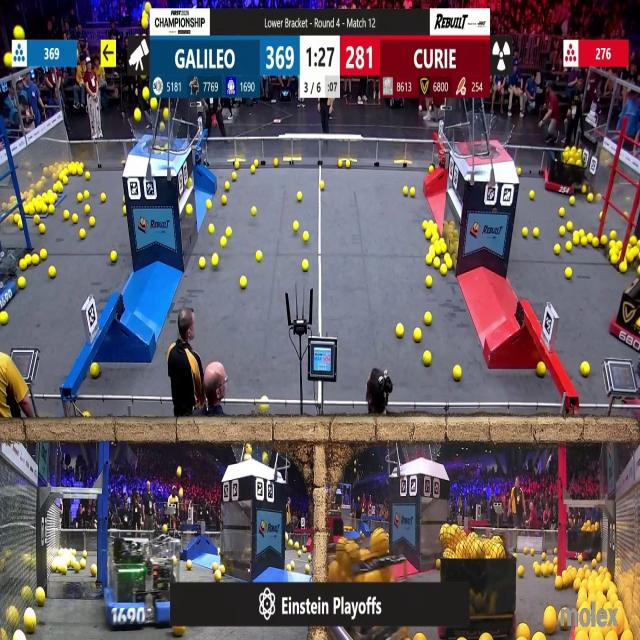ball_airborne: (141, 3, 150, 28), (13, 26, 23, 40), (134, 108, 142, 121), (4, 55, 12, 68), (142, 89, 150, 101), (149, 99, 157, 110), (245, 446, 252, 456), (176, 466, 182, 476), (265, 450, 270, 462), (165, 108, 170, 119), (164, 524, 169, 532), (179, 489, 183, 498), (169, 496, 174, 503), (161, 121, 165, 127)
ball_ground: (545, 611, 558, 636), (25, 612, 37, 634), (36, 589, 45, 607), (173, 625, 184, 638), (519, 625, 529, 639), (536, 361, 545, 376), (92, 362, 100, 377), (424, 352, 432, 366), (454, 365, 462, 379), (582, 361, 590, 375), (414, 328, 422, 341), (424, 312, 431, 326), (556, 578, 563, 592), (0, 313, 8, 325), (18, 260, 26, 272), (432, 256, 440, 268), (516, 566, 524, 578), (396, 324, 403, 337), (214, 570, 222, 581), (600, 236, 608, 247), (212, 254, 219, 266), (620, 264, 628, 274), (574, 237, 582, 247), (56, 182, 64, 192), (17, 278, 24, 289), (48, 268, 55, 279), (110, 251, 117, 262), (565, 269, 572, 280), (241, 277, 247, 289), (256, 250, 262, 262), (610, 254, 617, 264), (92, 565, 99, 575), (565, 242, 572, 252), (32, 254, 39, 264), (441, 266, 448, 276), (533, 633, 543, 640), (582, 238, 589, 248), (630, 236, 637, 246), (426, 276, 432, 287), (200, 257, 206, 268), (40, 249, 46, 260), (535, 227, 541, 238), (435, 245, 441, 256), (426, 255, 433, 264), (609, 232, 616, 241), (91, 216, 97, 226), (79, 230, 85, 240), (555, 244, 561, 254), (303, 262, 309, 272), (39, 223, 45, 233), (402, 186, 408, 196), (186, 560, 192, 570), (588, 234, 594, 244), (225, 228, 231, 238), (560, 226, 566, 236), (593, 238, 599, 248), (522, 228, 528, 238), (415, 634, 425, 640), (442, 244, 447, 255), (435, 560, 441, 569), (186, 205, 192, 214), (72, 214, 78, 223), (588, 192, 594, 201), (84, 205, 90, 214), (220, 238, 226, 247), (64, 211, 70, 220), (292, 221, 298, 230), (76, 192, 82, 201), (25, 206, 31, 215), (583, 185, 589, 194), (592, 560, 598, 569), (209, 223, 214, 233), (306, 564, 311, 574), (411, 186, 416, 196), (448, 261, 453, 271), (569, 198, 575, 206), (83, 190, 89, 198), (100, 192, 106, 200), (566, 222, 572, 230), (47, 206, 53, 214), (250, 167, 256, 175), (425, 232, 431, 240), (221, 197, 227, 205), (578, 229, 584, 237), (609, 240, 615, 248), (87, 172, 93, 180), (304, 233, 309, 242), (207, 201, 212, 210), (214, 562, 219, 571), (80, 560, 85, 569), (423, 220, 428, 229), (320, 180, 324, 190), (274, 160, 279, 168), (35, 215, 40, 223), (346, 162, 351, 170), (428, 166, 433, 174), (524, 546, 529, 554), (594, 194, 599, 202), (252, 207, 256, 216), (560, 208, 564, 217), (296, 191, 300, 200), (224, 181, 228, 190), (636, 268, 640, 277), (83, 413, 89, 419), (235, 163, 240, 170), (339, 162, 344, 169), (82, 552, 87, 559), (530, 190, 534, 198), (516, 166, 520, 174), (290, 562, 294, 570), (17, 220, 21, 228), (254, 162, 259, 168), (233, 173, 237, 180), (531, 550, 535, 557), (122, 206, 125, 215), (554, 547, 558, 553), (297, 552, 301, 558), (308, 556, 312, 562), (515, 553, 518, 560), (217, 547, 220, 553)
goal: (459, 118, 517, 158), (128, 116, 186, 152)
robot_blue: (105, 536, 183, 628), (0, 238, 18, 310)
robot_red: (436, 536, 518, 640), (545, 146, 587, 196), (564, 508, 602, 560), (613, 300, 640, 353), (325, 0, 381, 8)
